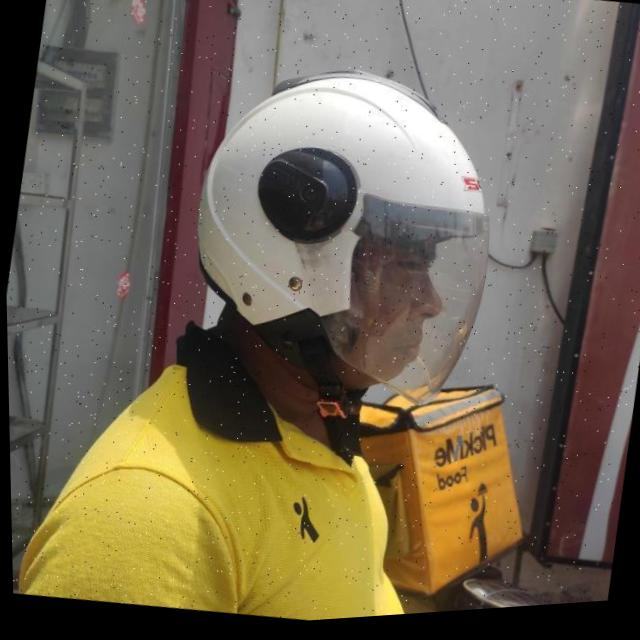helmet: (158, 46, 515, 492)
